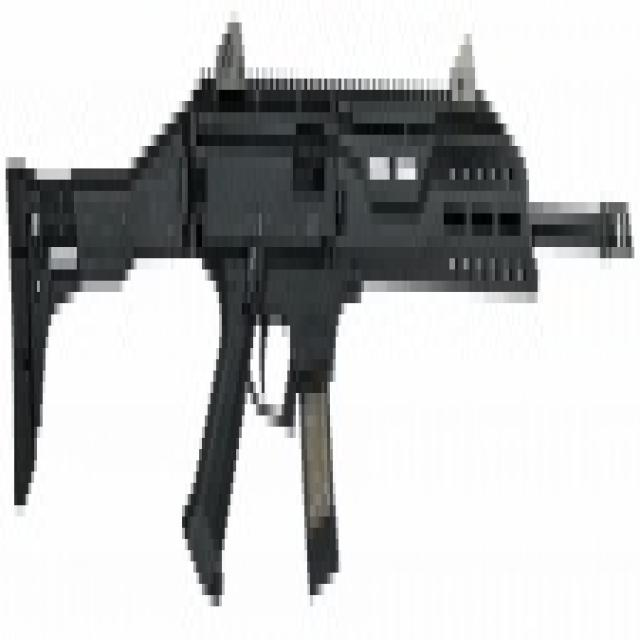rifle: (6, 24, 637, 633)
